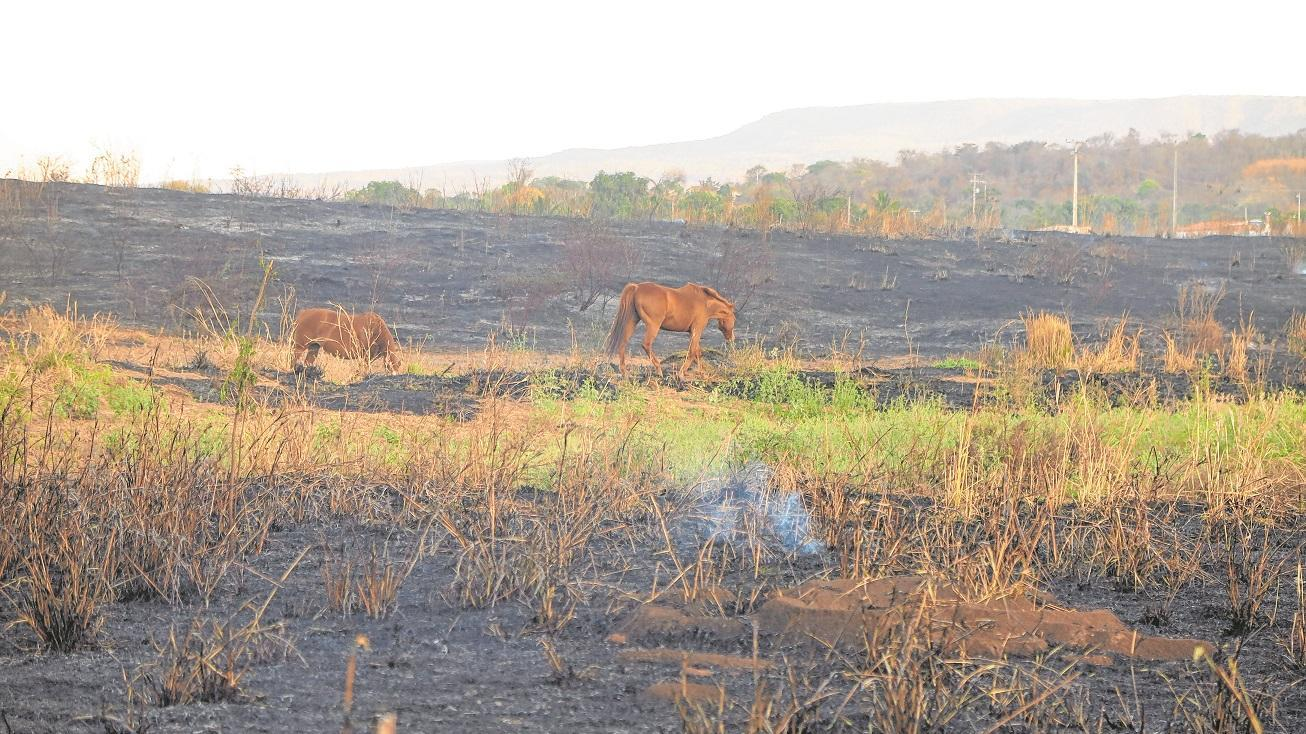smoke: (710, 480, 818, 552)
